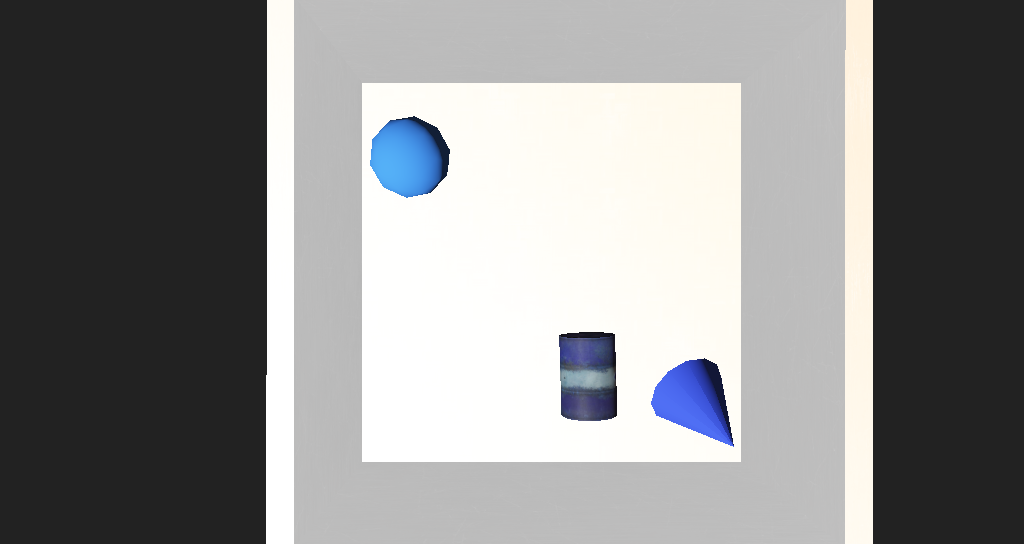cone: (515, 301, 563, 348)
cylinder: (583, 313, 684, 394)
sphere: (357, 184, 424, 227)
